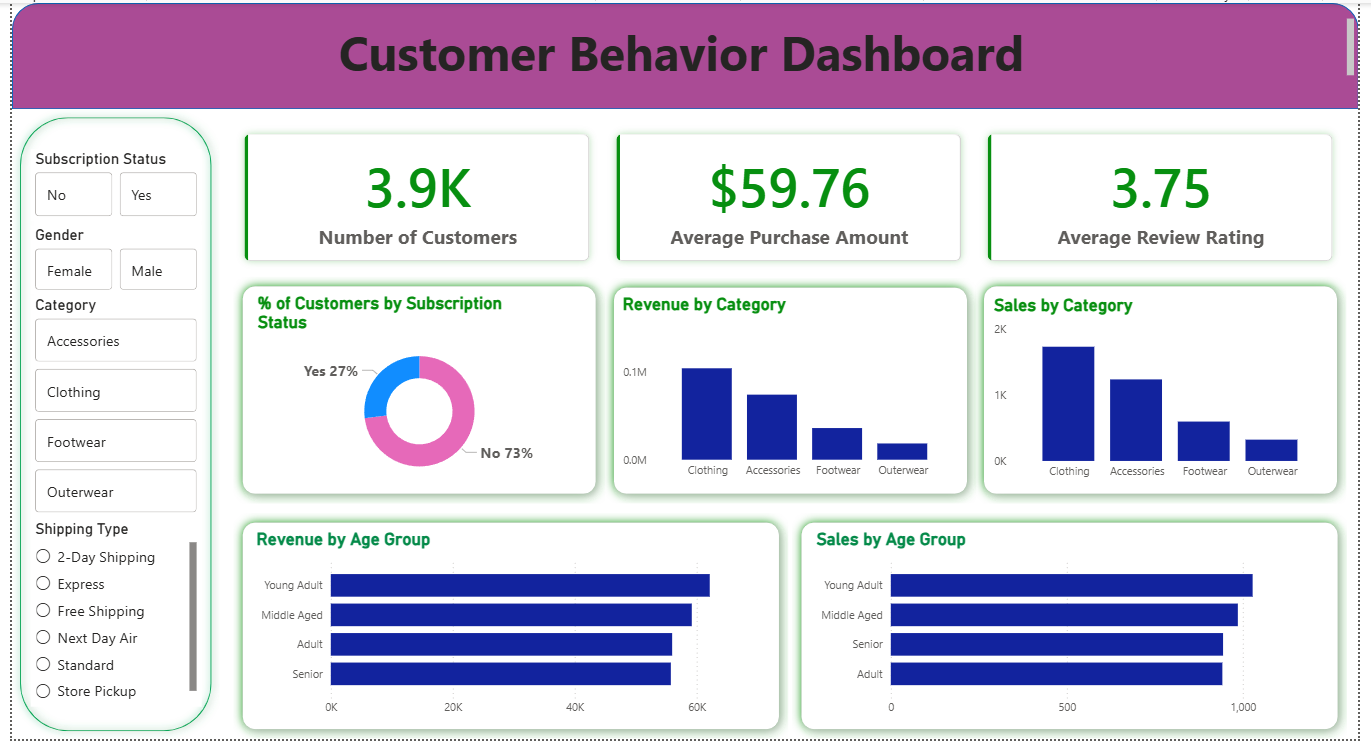

What the dashboard file says about the page in this screenshot:
{"tool":"powerbi","page":{"name":"Page 1","canvas":[1500,820],"ordinal":0},"visuals":[{"type":"cardVisual","fields":{"Data":["customer.Number of Customers","customer.Average Purchase Amount","customer.Average Review Rating"]},"box":[230.6,118.2,1269.7,197],"z":0},{"type":"shape","box":[0,0,1500.3,118.2],"z":1000},{"type":"textbox","box":[0,13.1,1500.3,77.3],"z":2000},{"type":"shape","box":[246.6,305,414.5,252.5],"z":3000},{"type":"donutChart","title":"% of Customers by Subscription Status","fields":{"Category":["customer.subscription_status"],"Y":["CountNonNull(customer.customer_id)"]},"box":[268.5,322.5,370.7,216],"z":4000},{"type":"shape","box":[659.7,306.5,414.5,251],"z":5000},{"type":"shape","box":[1072.7,305,414.5,252.5],"z":6000},{"type":"clusteredColumnChart","title":"Revenue by Category","fields":{"Y":["Sum(customer.purchase_amount)"],"Category":["customer.category"]},"box":[675.7,324,380.9,214.5],"z":7000},{"type":"clusteredColumnChart","title":"Sales by Category","fields":{"Y":["CountNonNull(customer.customer_id)"],"Category":["customer.category"]},"box":[1088.7,325.5,380.9,214.5],"z":8000},{"type":"shape","box":[0,118.4,231.2,701.9],"z":9000},{"type":"advancedSlicerVisual","title":"Subscription Status","fields":{"Values":["customer.subscription_status"]},"box":[21.4,162.9,190,80],"z":10000},{"type":"advancedSlicerVisual","title":"Gender","fields":{"Values":["customer.gender"]},"box":[21.4,248.6,190,77.1],"z":11000},{"type":"advancedSlicerVisual","title":"Category","fields":{"Values":["customer.category"]},"box":[21.4,325.7,190,250],"z":11001},{"type":"listSlicer","title":"Shipping Type","fields":{"Values":["customer.shipping_type"]},"box":[21.4,575.7,190,208.6],"z":11002},{"type":"shape","box":[247.1,568.6,618.6,251.4],"z":11003},{"type":"shape","box":[868.6,568.6,618.6,251.4],"z":11004},{"type":"clusteredBarChart","title":"Revenue by Age Group","fields":{"Y":["Sum(customer.purchase_amount)"],"Category":["customer.age_group"]},"box":[267.1,585.7,578.6,217.1],"z":11005},{"type":"clusteredBarChart","title":"Sales by Age Group","fields":{"Y":["CountNonNull(customer.customer_id)"],"Category":["customer.age_group"]},"box":[891.4,585.7,578.6,217.1],"z":11006}]}

Visuals, with their boxes in screenshot pixels (x1, y1, x2, y2), scaled from the page's 1500x820 canvas onto the 1371x748 screenshot:
cardVisual - customer.Number of Customers x customer.Average Purchase Amount: {"x1": 211, "y1": 108, "x2": 1370, "y2": 288}
shape: {"x1": 0, "y1": 0, "x2": 1370, "y2": 108}
textbox: {"x1": 0, "y1": 12, "x2": 1370, "y2": 82}
shape: {"x1": 225, "y1": 278, "x2": 604, "y2": 509}
"% of Customers by Subscription Status" donutChart: {"x1": 245, "y1": 294, "x2": 584, "y2": 491}
shape: {"x1": 603, "y1": 280, "x2": 982, "y2": 509}
shape: {"x1": 980, "y1": 278, "x2": 1359, "y2": 509}
"Revenue by Category" clusteredColumnChart: {"x1": 618, "y1": 296, "x2": 966, "y2": 491}
"Sales by Category" clusteredColumnChart: {"x1": 995, "y1": 297, "x2": 1343, "y2": 493}
shape: {"x1": 0, "y1": 108, "x2": 211, "y2": 747}
"Subscription Status" advancedSlicerVisual: {"x1": 20, "y1": 149, "x2": 193, "y2": 222}
"Gender" advancedSlicerVisual: {"x1": 20, "y1": 227, "x2": 193, "y2": 297}
"Category" advancedSlicerVisual: {"x1": 20, "y1": 297, "x2": 193, "y2": 525}
"Shipping Type" listSlicer: {"x1": 20, "y1": 525, "x2": 193, "y2": 715}
shape: {"x1": 226, "y1": 519, "x2": 791, "y2": 747}
shape: {"x1": 794, "y1": 519, "x2": 1359, "y2": 747}
"Revenue by Age Group" clusteredBarChart: {"x1": 244, "y1": 534, "x2": 773, "y2": 732}
"Sales by Age Group" clusteredBarChart: {"x1": 815, "y1": 534, "x2": 1344, "y2": 732}
